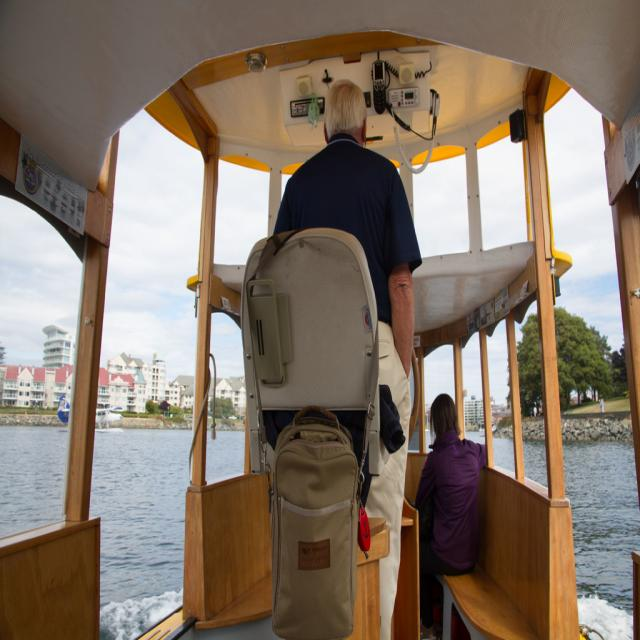backpack: (267, 413, 361, 639)
